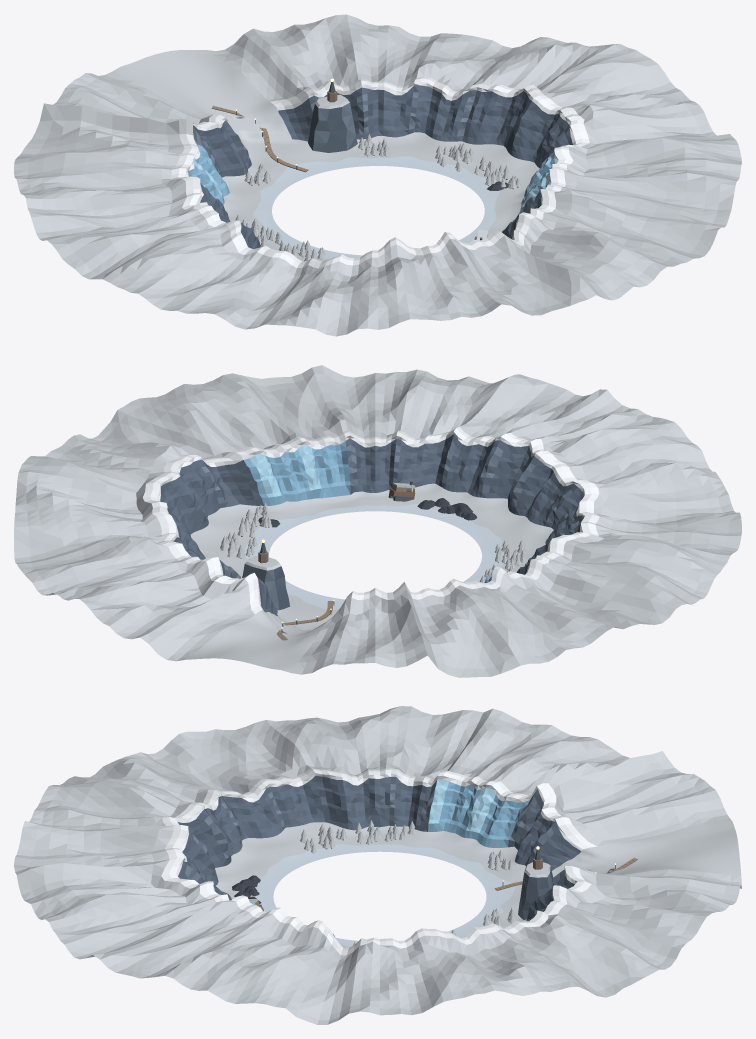
File: crater_terrain.glb
The picture shows the model from 3 angles, top to bottom: view 1: azimuth 30°, elevation 25°; view 2: azimuth 150°, elevation 25°; view 3: azimuth 270°, elevation 25°; orthographic projection.
Visible parts, largest first — view 1: Crater_Glacier_Terrain; view 2: Crater_Glacier_Terrain; view 3: Crater_Glacier_Terrain.
Boxes of the visible parts, x1,y1,x2,y2 form: Crater_Glacier_Terrain: (14, 14, 741, 336); Crater_Glacier_Terrain: (14, 365, 741, 677); Crater_Glacier_Terrain: (14, 706, 741, 1024).
Bounding box in the file's own units: 32.49 × 3.43 × 32.47.
